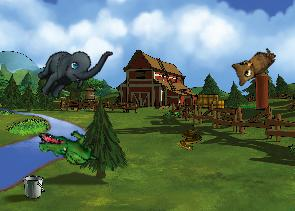crocodile: (37, 127, 99, 168)
elephant: (31, 26, 113, 114)
owl: (225, 37, 278, 90)
